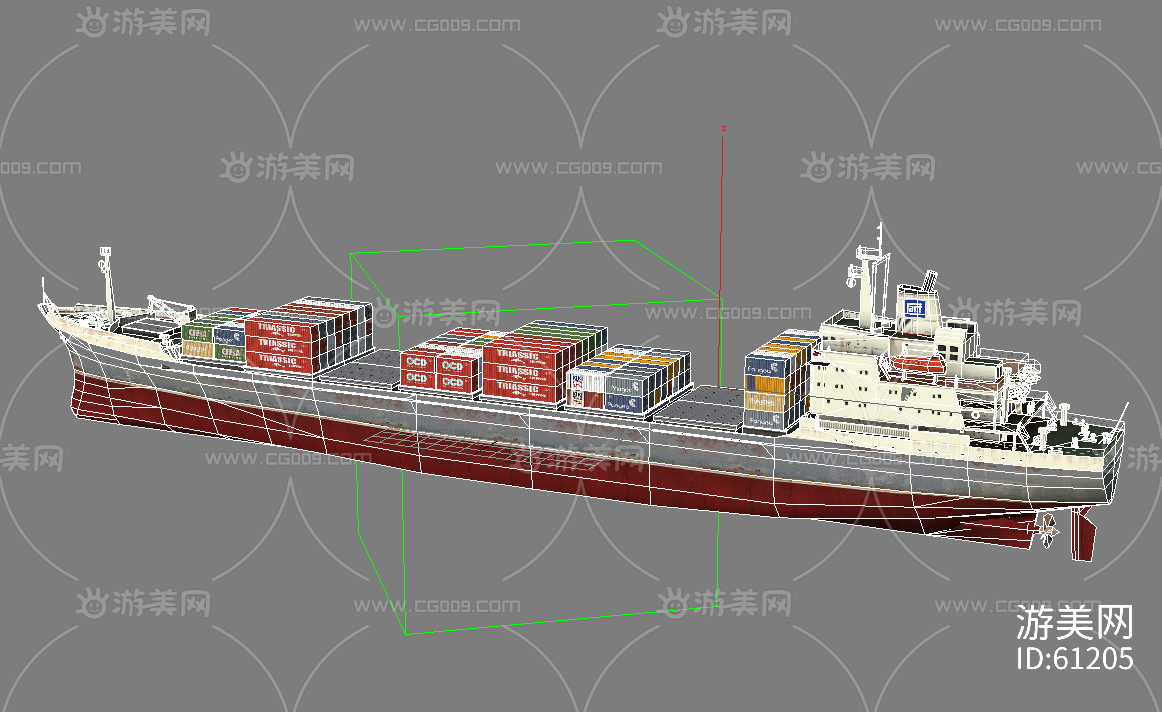Cargoship: (20, 229, 1135, 542)
